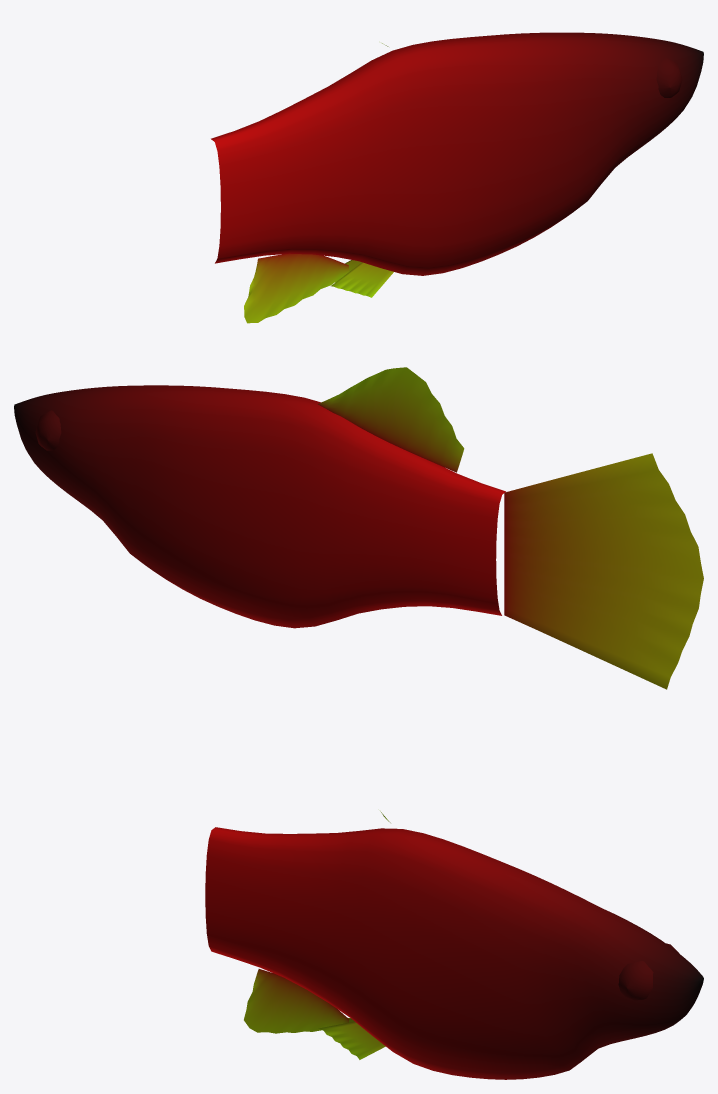
The model's file is platy.glb.
3 renders of one model, top to bottom at view 1: azimuth 30°, elevation 25°; view 2: azimuth 150°, elevation 25°; view 3: azimuth 330°, elevation 25°, orthographic.
Parts seen in each view (by area): view 1: body, eye; view 2: body, eye; view 3: body, eye.
Boxes of the visible parts, <box> form: body: <box>211,32,703,323</box>; eye: <box>656,57,682,97</box>; body: <box>14,367,703,689</box>; eye: <box>35,410,61,450</box>; body: <box>205,811,703,1079</box>; eye: <box>618,943,679,1000</box>.
Bounding box in the file's own units: 0.085 × 0.0346 × 0.00983.
